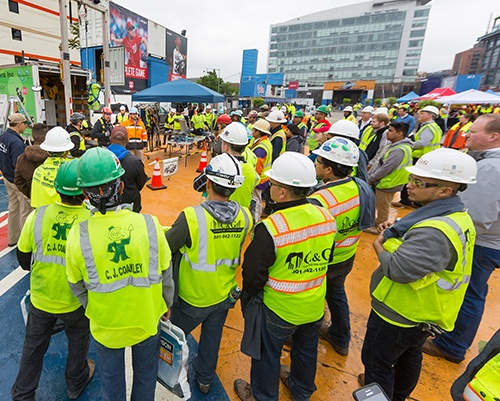blue: (68, 110, 85, 129)
none: (468, 112, 499, 154), (5, 111, 27, 135), (385, 121, 409, 142), (110, 124, 129, 147), (31, 122, 49, 144), (372, 113, 389, 129), (284, 123, 299, 138), (460, 112, 471, 123), (397, 107, 406, 116)
red: (216, 114, 232, 131), (100, 106, 113, 121)
white: (406, 147, 479, 206), (268, 151, 317, 203), (314, 136, 360, 181), (204, 154, 242, 198), (220, 122, 250, 155), (43, 125, 72, 158), (327, 120, 360, 141), (417, 104, 439, 123), (266, 111, 286, 130), (361, 106, 373, 120), (129, 107, 139, 120), (343, 105, 353, 117), (119, 105, 126, 115)
yellow: (251, 118, 271, 137)
